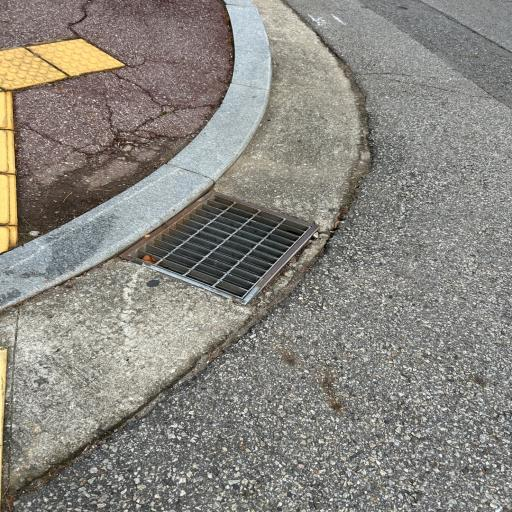drain: (122, 193, 316, 303)
